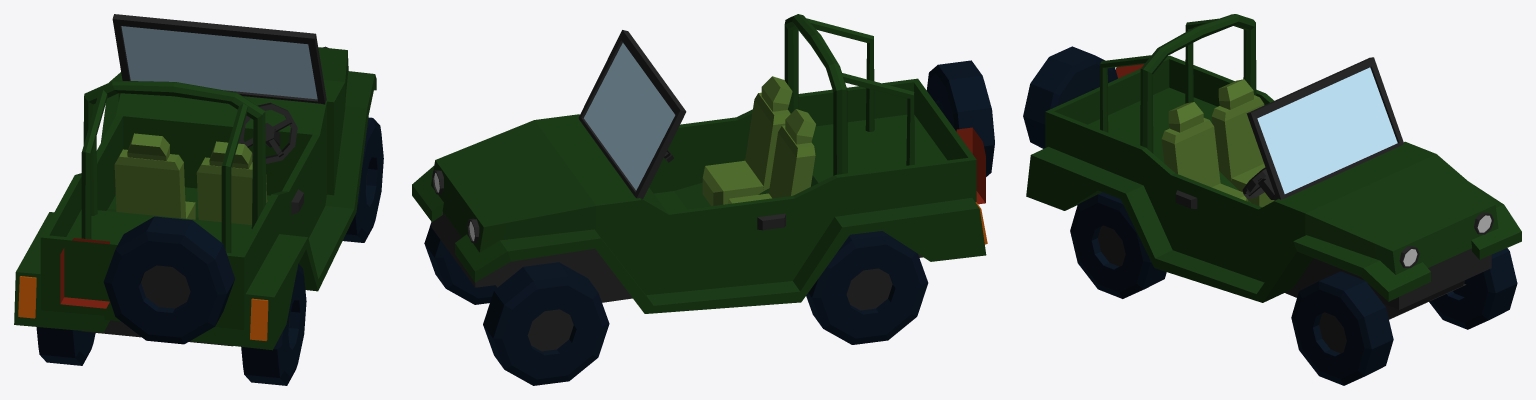
File: jeep_lev2.glb
3 views of the same model, side by side, from view 1: azimuth 30°, elevation 25°; view 2: azimuth 150°, elevation 25°; view 3: azimuth 270°, elevation 25° (orthographic). The views are drawn at different scales.
Parts seen in each view (by area): view 1: jeep_lev2; view 2: jeep_lev2; view 3: jeep_lev2.
Boxes of the visible parts, bbox=[...] form: jeep_lev2: bbox=[14, 14, 383, 385]; jeep_lev2: bbox=[412, 14, 994, 385]; jeep_lev2: bbox=[1023, 14, 1521, 385].
Bounding box in the file's own units: 8.64 × 4.73 × 8.93.
